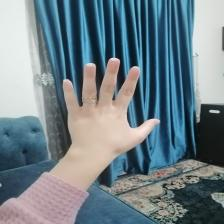five: (56, 56, 163, 158)
